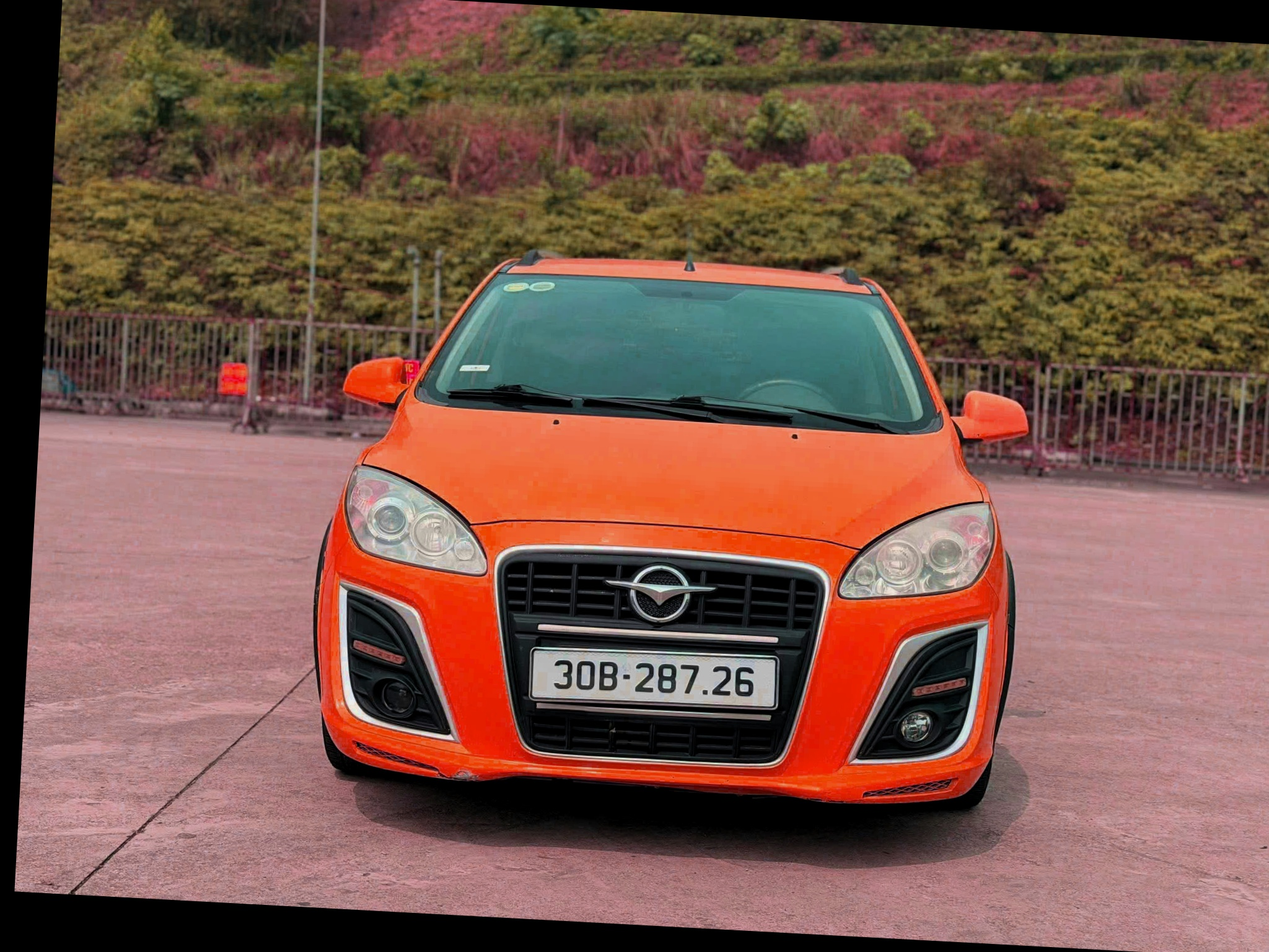Bien-so: (504, 660, 758, 727)
